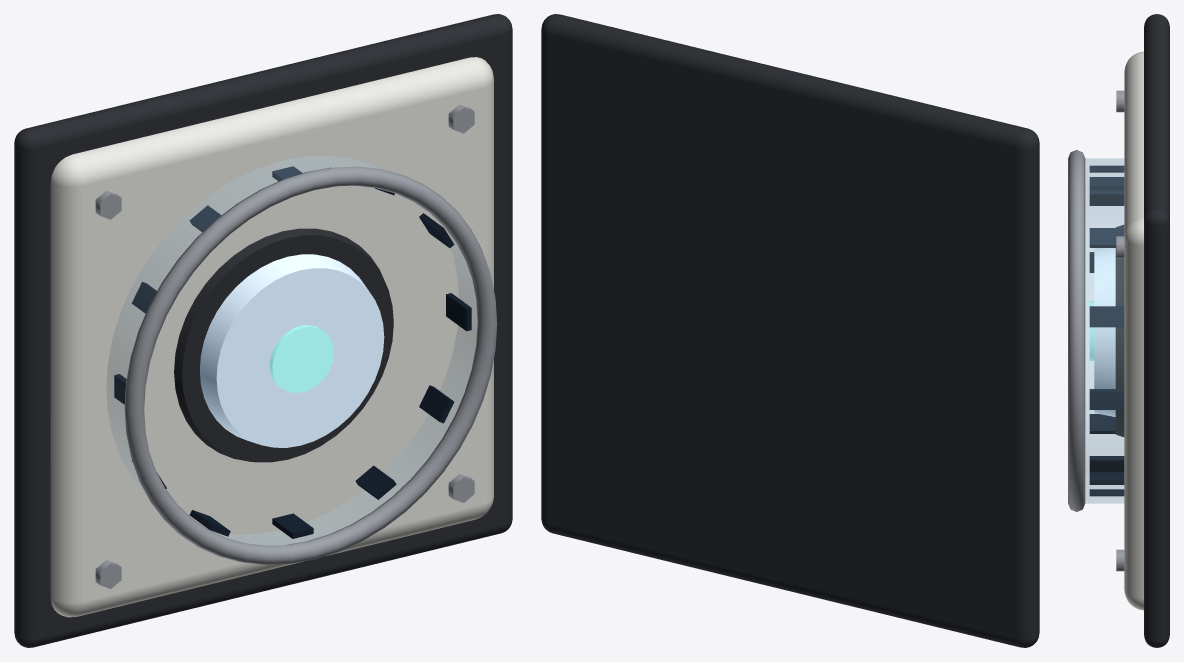
Rendered from push_clock_wall.glb.
3 renders of one model, left to right at view 1: azimuth 30°, elevation 25°; view 2: azimuth 150°, elevation 25°; view 3: azimuth 270°, elevation 25°, orthographic. The views are drawn at different scales.
Parts seen in each view (by area): view 1: group, cap, segs_1, segs_2, segs_0; view 2: group; view 3: group, cap, segs_11, segs_0, segs_10, segs_1, segs_7, segs_4, segs_9, segs_3, segs_2, segs_8.
Boxes of the visible parts, x1,y1,x2,y2 form: group: (14,14,512,647); cap: (199,254,384,447); segs_1: (419,385,454,423); segs_2: (355,465,396,499); segs_0: (446,293,471,331); group: (541,14,1039,647); group: (1068,14,1169,647); cap: (1089,248,1115,416); segs_11: (1089,306,1124,327); segs_0: (1089,389,1124,409); segs_10: (1089,228,1124,247); segs_1: (1089,456,1124,471); segs_7: (1089,190,1124,205); segs_4: (1089,414,1115,433); segs_9: (1089,177,1124,190); segs_3: (1089,472,1124,484); segs_2: (1089,489,1124,496); segs_8: (1089,165,1124,172).
Size of the model in its own units: 0.56 by 0.56 by 0.118.
